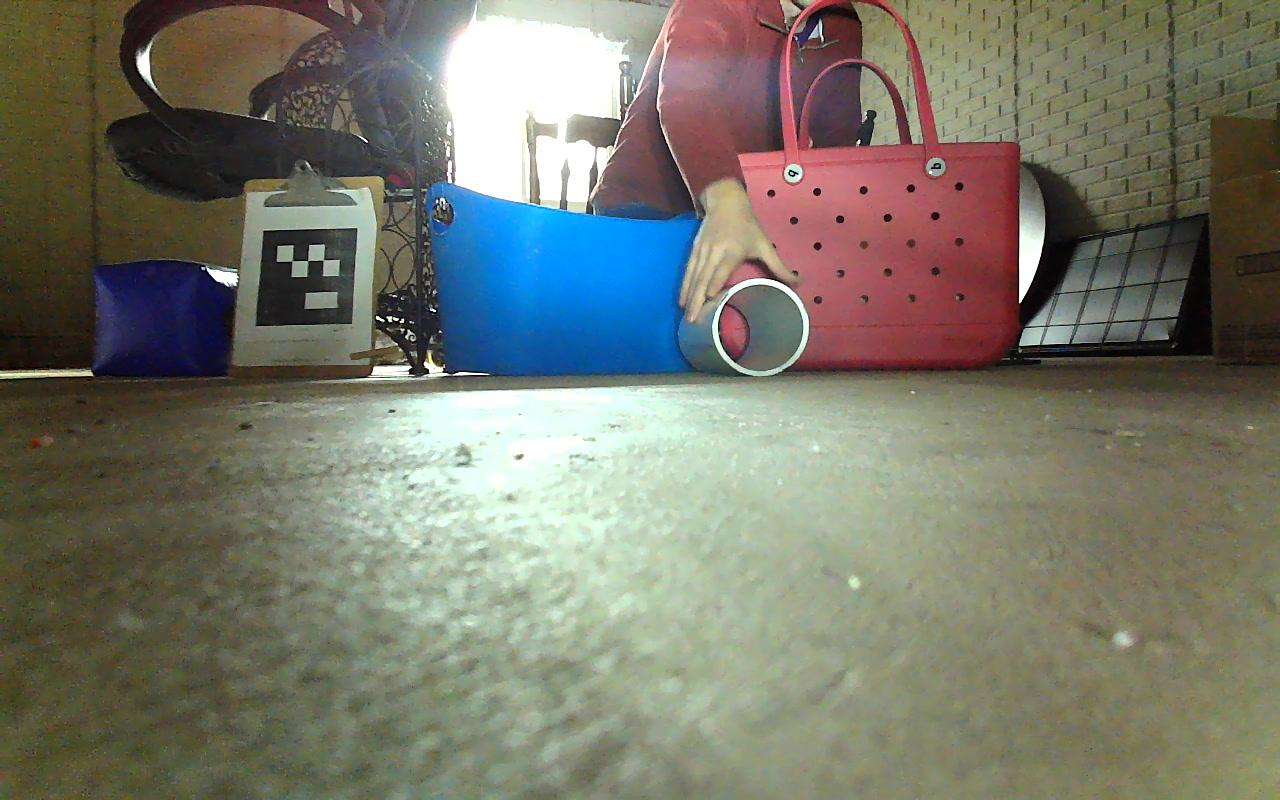coral: (680, 277, 808, 376)
